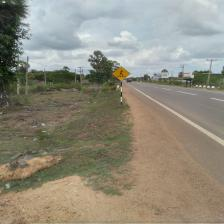yellowboard: (111, 66, 131, 81)
